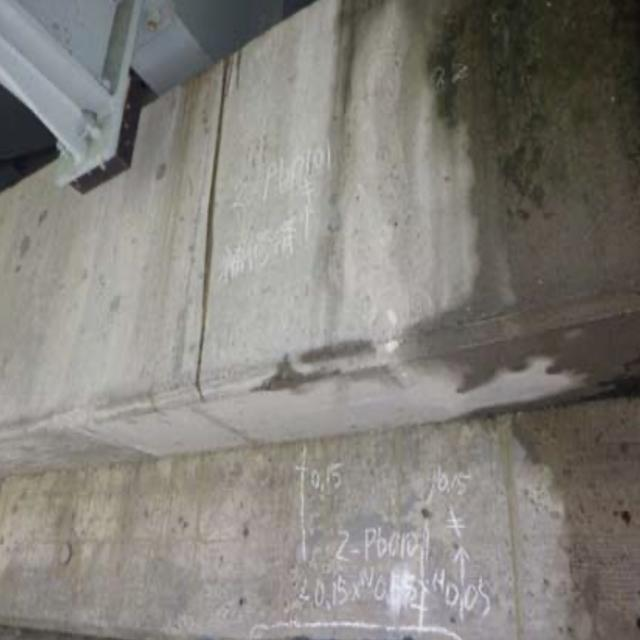leakage: (411, 4, 640, 620)
